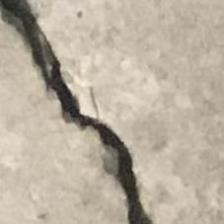Crack: (3, 0, 183, 224)
